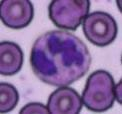N: (30, 31, 90, 86)
